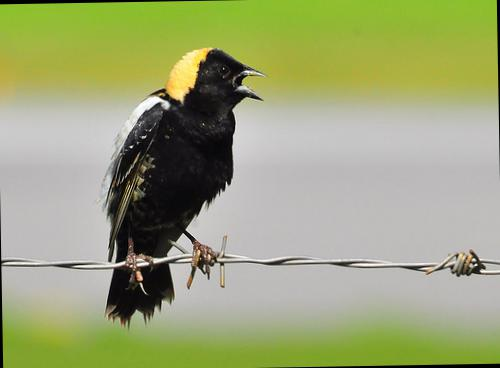bird: (84, 36, 280, 344)
